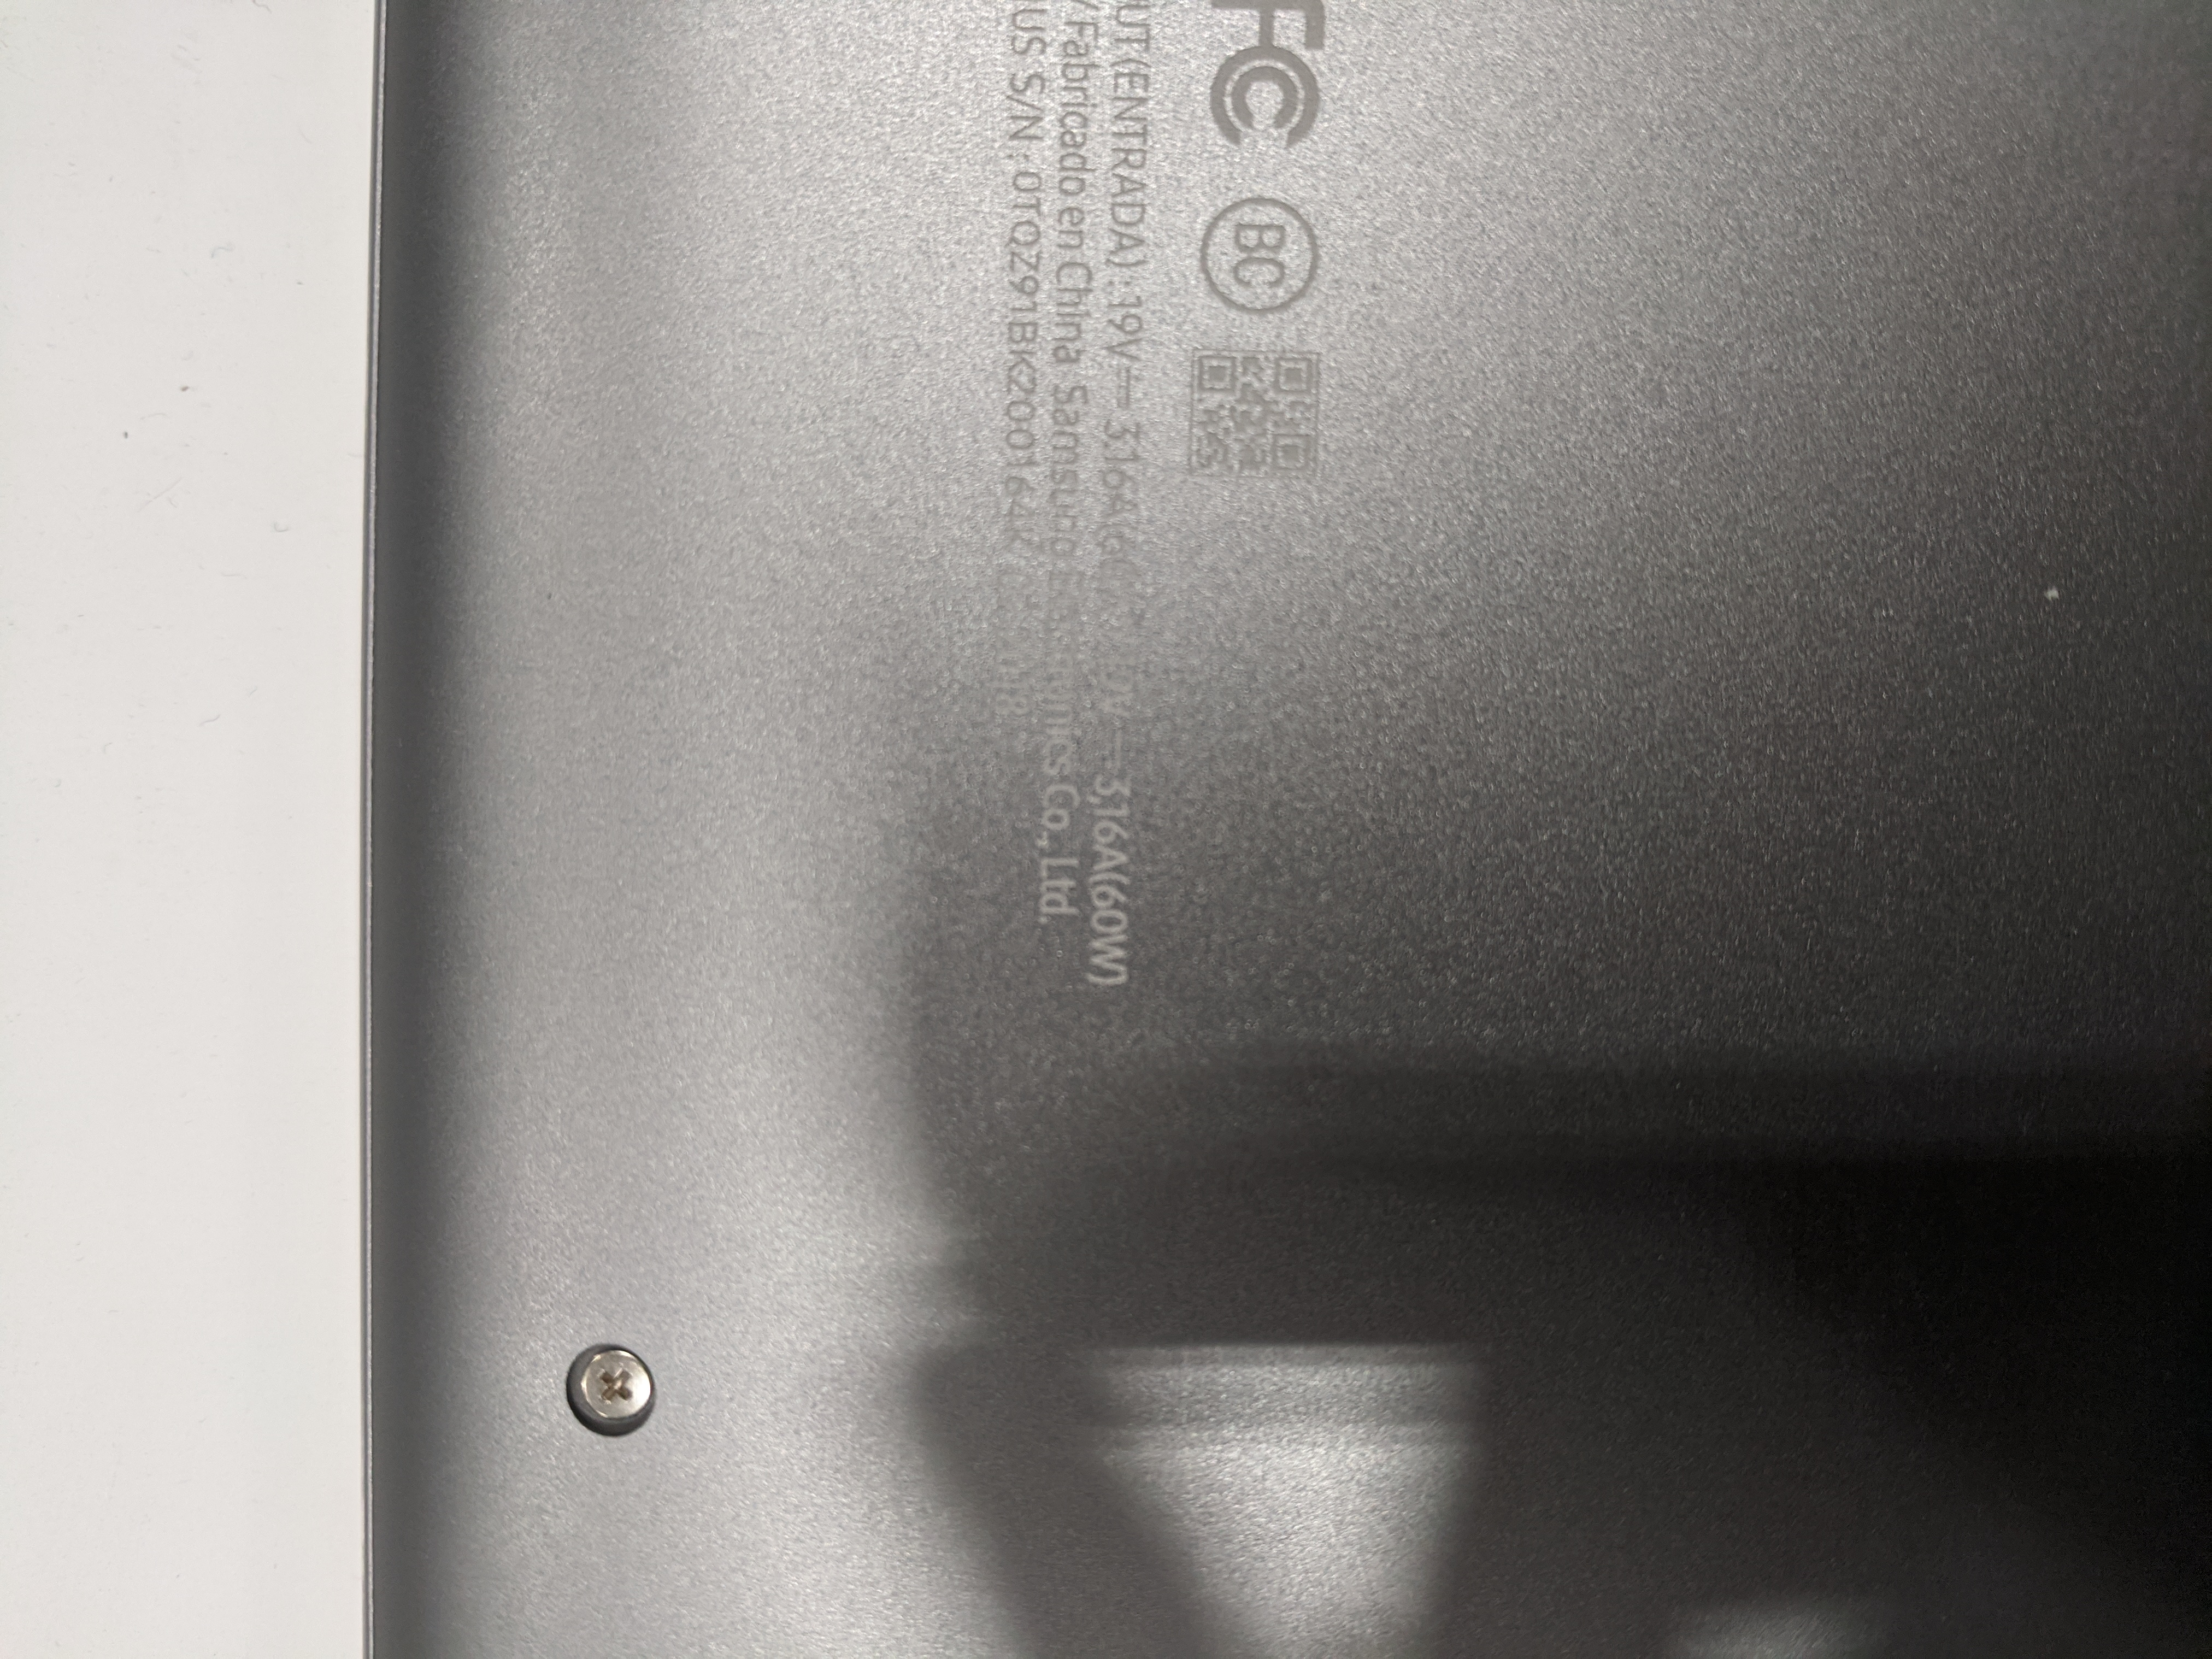cross_recessed_screw: (571, 1340, 655, 1422)
